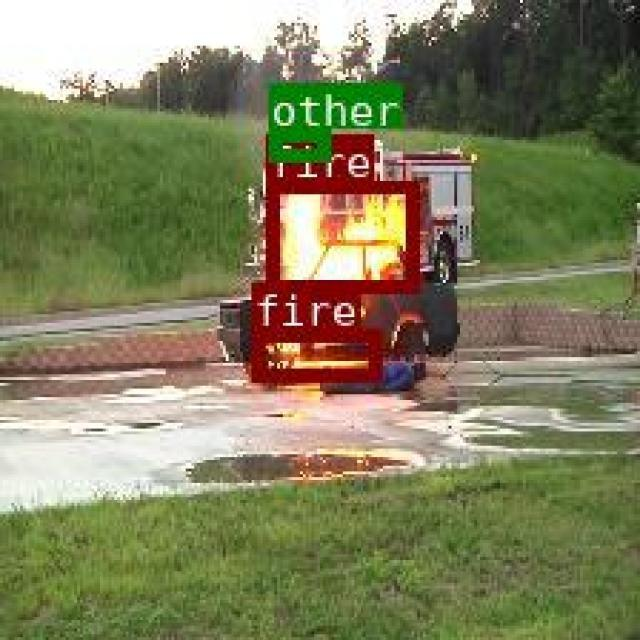fire: (266, 178, 415, 289), (250, 326, 378, 377)
